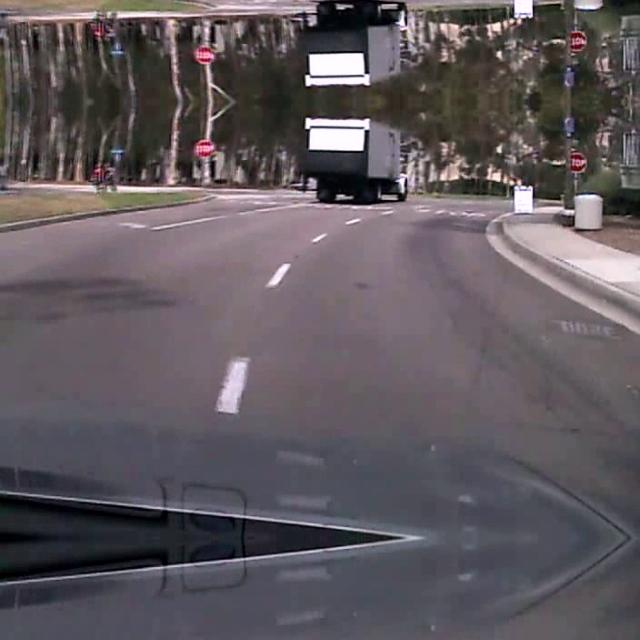stop: (566, 151, 586, 171), (566, 31, 586, 51), (194, 138, 213, 156), (194, 46, 213, 64)
